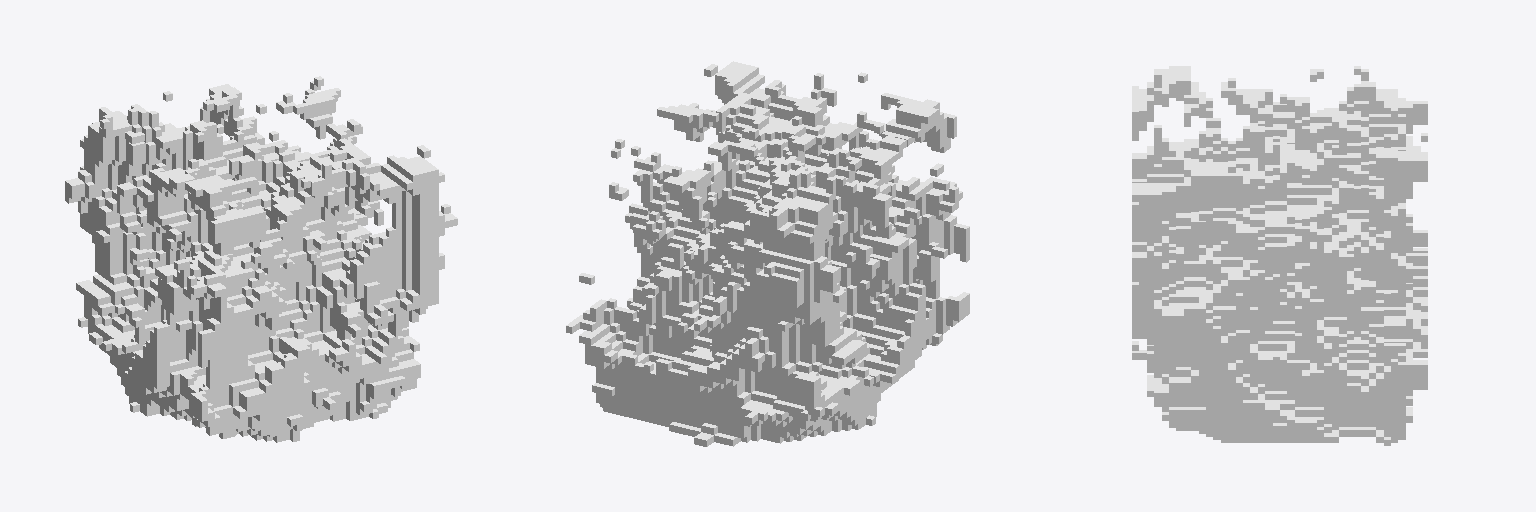
File: Fire3.obj
3 renders of one model, left to right at view 1: azimuth 30°, elevation 25°; view 2: azimuth 150°, elevation 25°; view 3: azimuth 270°, elevation 25°, orthographic.
Visible parts, largest first — view 1: object 1; view 2: object 1; view 3: object 1.
Boxes of the visible parts, x1=… form: object 1: x1=65, y1=76, x2=457, y2=442; object 1: x1=566, y1=61, x2=969, y2=446; object 1: x1=1132, y1=66, x2=1427, y2=445.
Size of the model in its own units: 4 by 4 by 4.